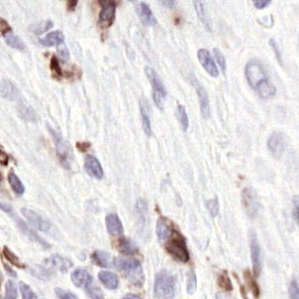Lymphocyte: (158, 220, 192, 265)
